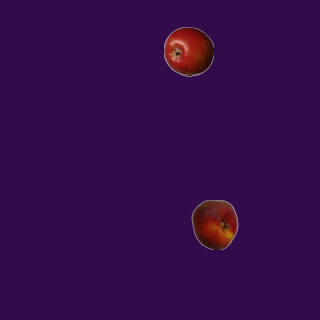Apple Braeburn: (163, 26, 213, 76)
Nectarine Flat: (189, 199, 239, 249)
